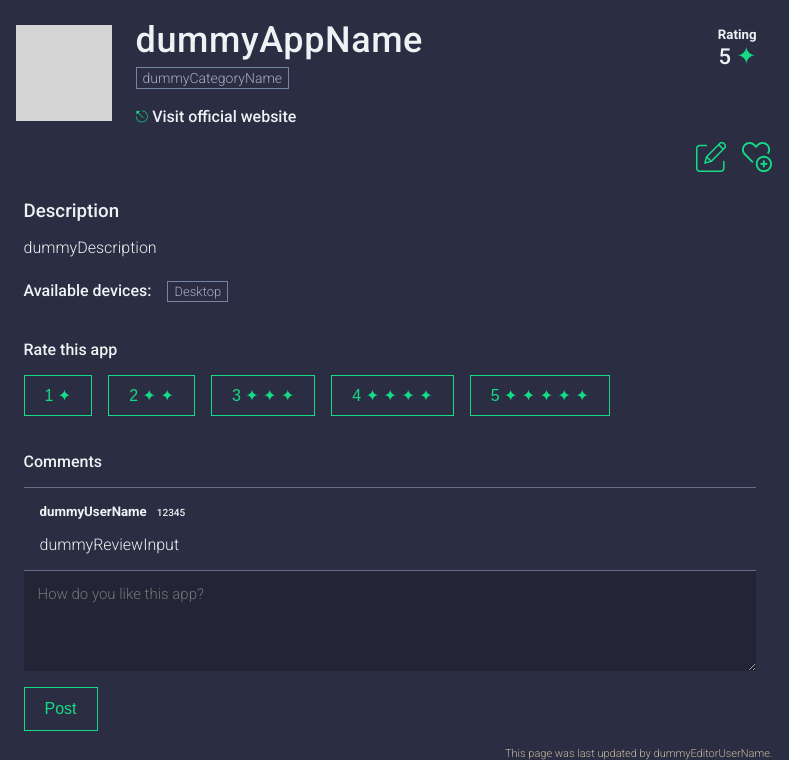
Scenario: user use features successfully › displays user name, comments and time stamp after clicking comment button
(page scrolled)
Click the button "Post": (60,709) [24,687,98,731]
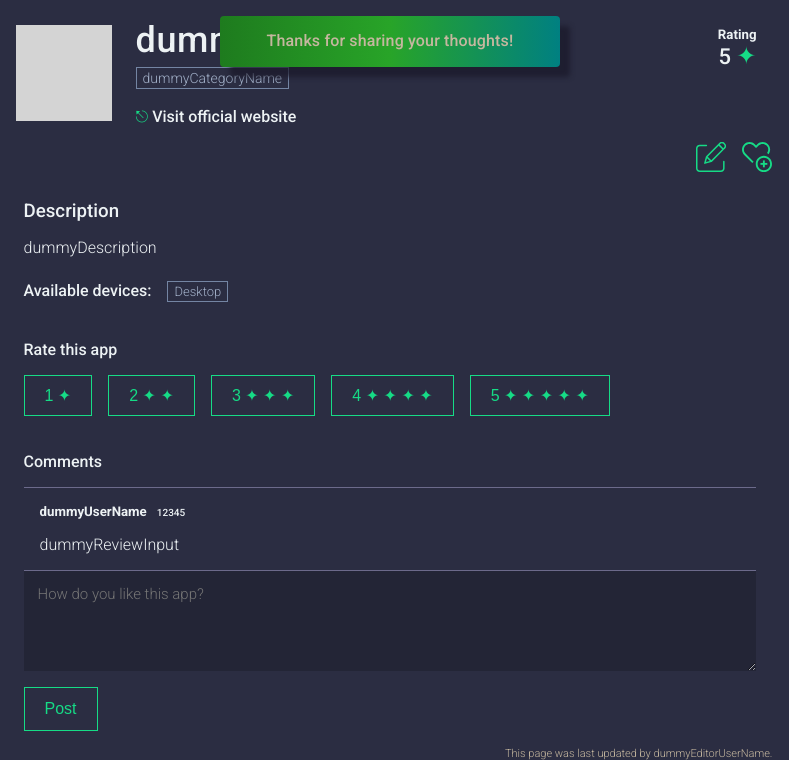
Check: the heading "dummyUserName" is shown, box [40,504,157,519]
Check: the text "Thanks for sharing your thoughts!" is shown, box [267,31,513,50]
